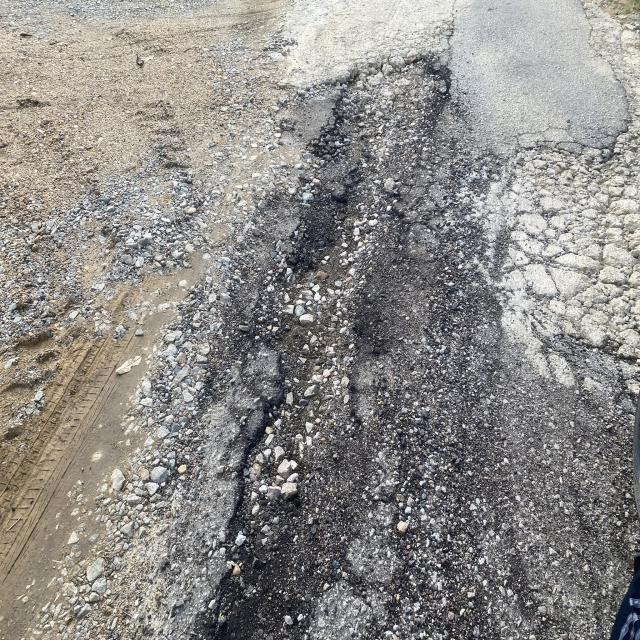pothole: (289, 13, 449, 326), (185, 314, 348, 614)
